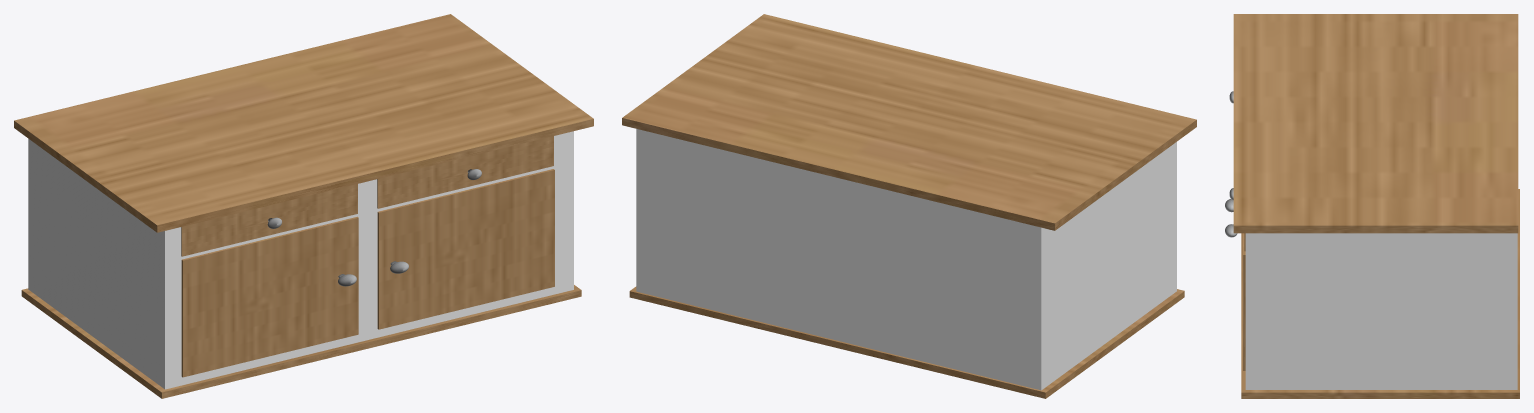
File: side unit (2 doors + drawers).fbx
The picture shows the model from 3 angles, left to right: view 1: azimuth 30°, elevation 25°; view 2: azimuth 150°, elevation 25°; view 3: azimuth 270°, elevation 25°; orthographic projection.
Visible parts, largest first — view 1: Counter, Base, Door 1, Door 1.003, Base.001, Door 2, Door 2.003; view 2: Base, Counter, Base.001; view 3: Counter, Base, Base.001, Door 1.003.
Part boxes in pixels (x1=…): Counter: x1=14, y1=14, x2=593, y2=232; Base: x1=28, y1=131, x2=573, y2=389; Door 1: x1=181, y1=216, x2=358, y2=377; Door 1.003: x1=377, y1=169, x2=554, y2=329; Base.001: x1=21, y1=285, x2=581, y2=398; Door 2: x1=181, y1=184, x2=357, y2=256; Door 2.003: x1=377, y1=136, x2=553, y2=208; Base: x1=636, y1=129, x2=1176, y2=390; Counter: x1=622, y1=14, x2=1196, y2=230; Base.001: x1=629, y1=286, x2=1184, y2=398; Counter: x1=1233, y1=14, x2=1518, y2=233; Base: x1=1245, y1=233, x2=1517, y2=389; Base.001: x1=1241, y1=189, x2=1519, y2=398; Door 1.003: x1=1243, y1=233, x2=1245, y2=370.
Size of the model in its own units: 1.61 by 0.6302 by 0.9499.
